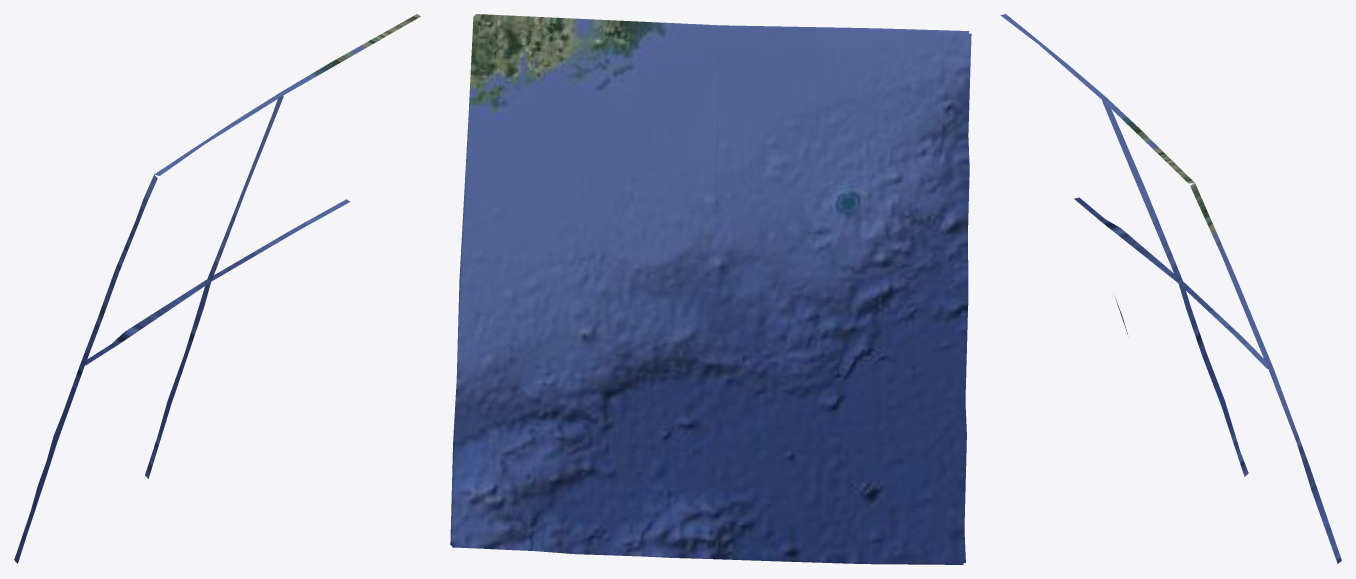
3 renders of one model, left to right at view 1: azimuth 30°, elevation 25°; view 2: azimuth 150°, elevation 25°; view 3: azimuth 270°, elevation 25°, orthographic. The views are drawn at different scales.
Bounding box in the file's own units: 628065 × 595461 × 450133.
1 material, 1 textured.
